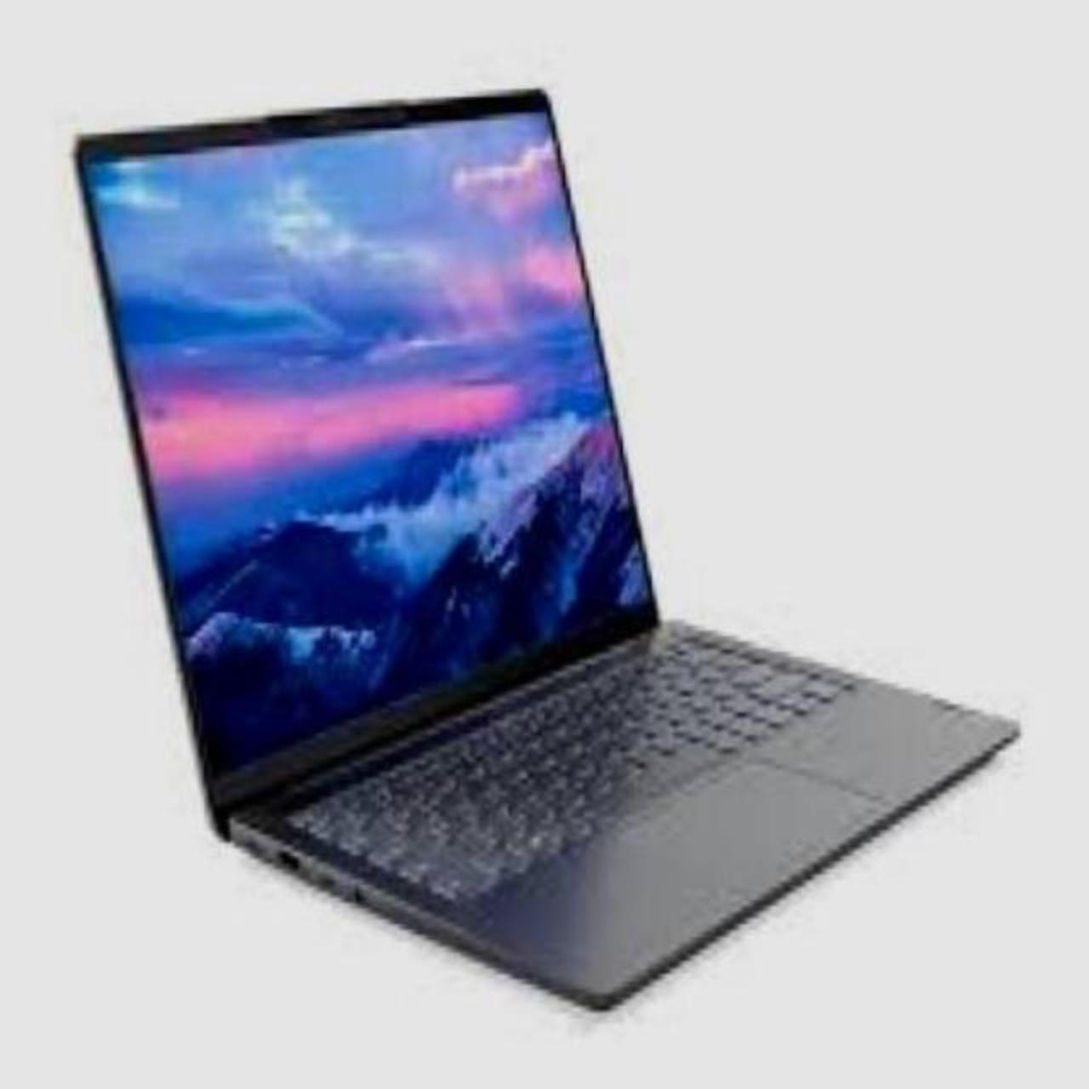laptop: (60, 43, 1069, 1032)
